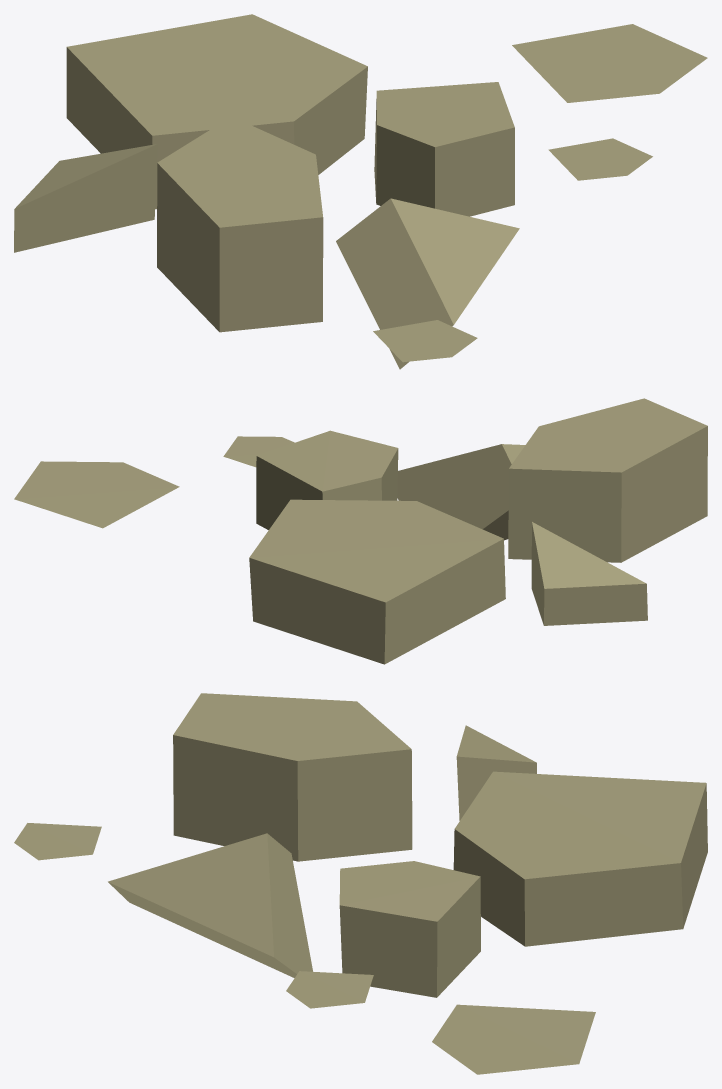
The model's file is Rubble01.fbx.
The picture shows the model from 3 angles, top to bottom: view 1: azimuth 30°, elevation 25°; view 2: azimuth 150°, elevation 25°; view 3: azimuth 270°, elevation 25°; orthographic projection. The views are drawn at different scales.
Visible parts, largest first — view 1: Rubble01; view 2: Rubble01; view 3: Rubble01.
Boxes of the visible parts, left/top/right/bottom form: Rubble01: left=14, top=14, right=707, bottom=369; Rubble01: left=14, top=398, right=707, bottom=664; Rubble01: left=14, top=693, right=707, bottom=1074.
Bounding box in the file's own units: 106 × 26.4 × 95.03.
